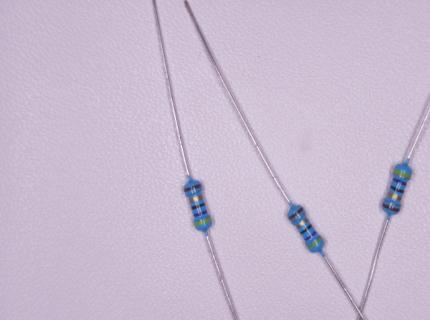Black band: (299, 224, 313, 235), (390, 185, 404, 193), (191, 203, 205, 210)
Brown band: (287, 206, 304, 221), (382, 203, 400, 212), (184, 184, 202, 192)
Gold band: (387, 192, 403, 202), (296, 217, 309, 229), (188, 195, 204, 203)
Violet band: (304, 230, 317, 242), (392, 177, 407, 186), (193, 210, 208, 218)
Yellow band: (307, 237, 324, 250), (393, 168, 412, 179), (193, 217, 212, 227)
